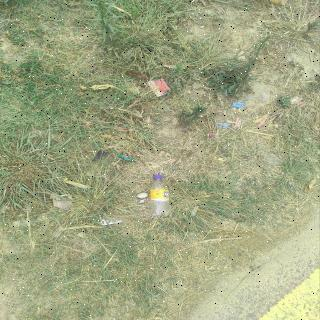Plastic-bottle: (148, 173, 173, 219)
